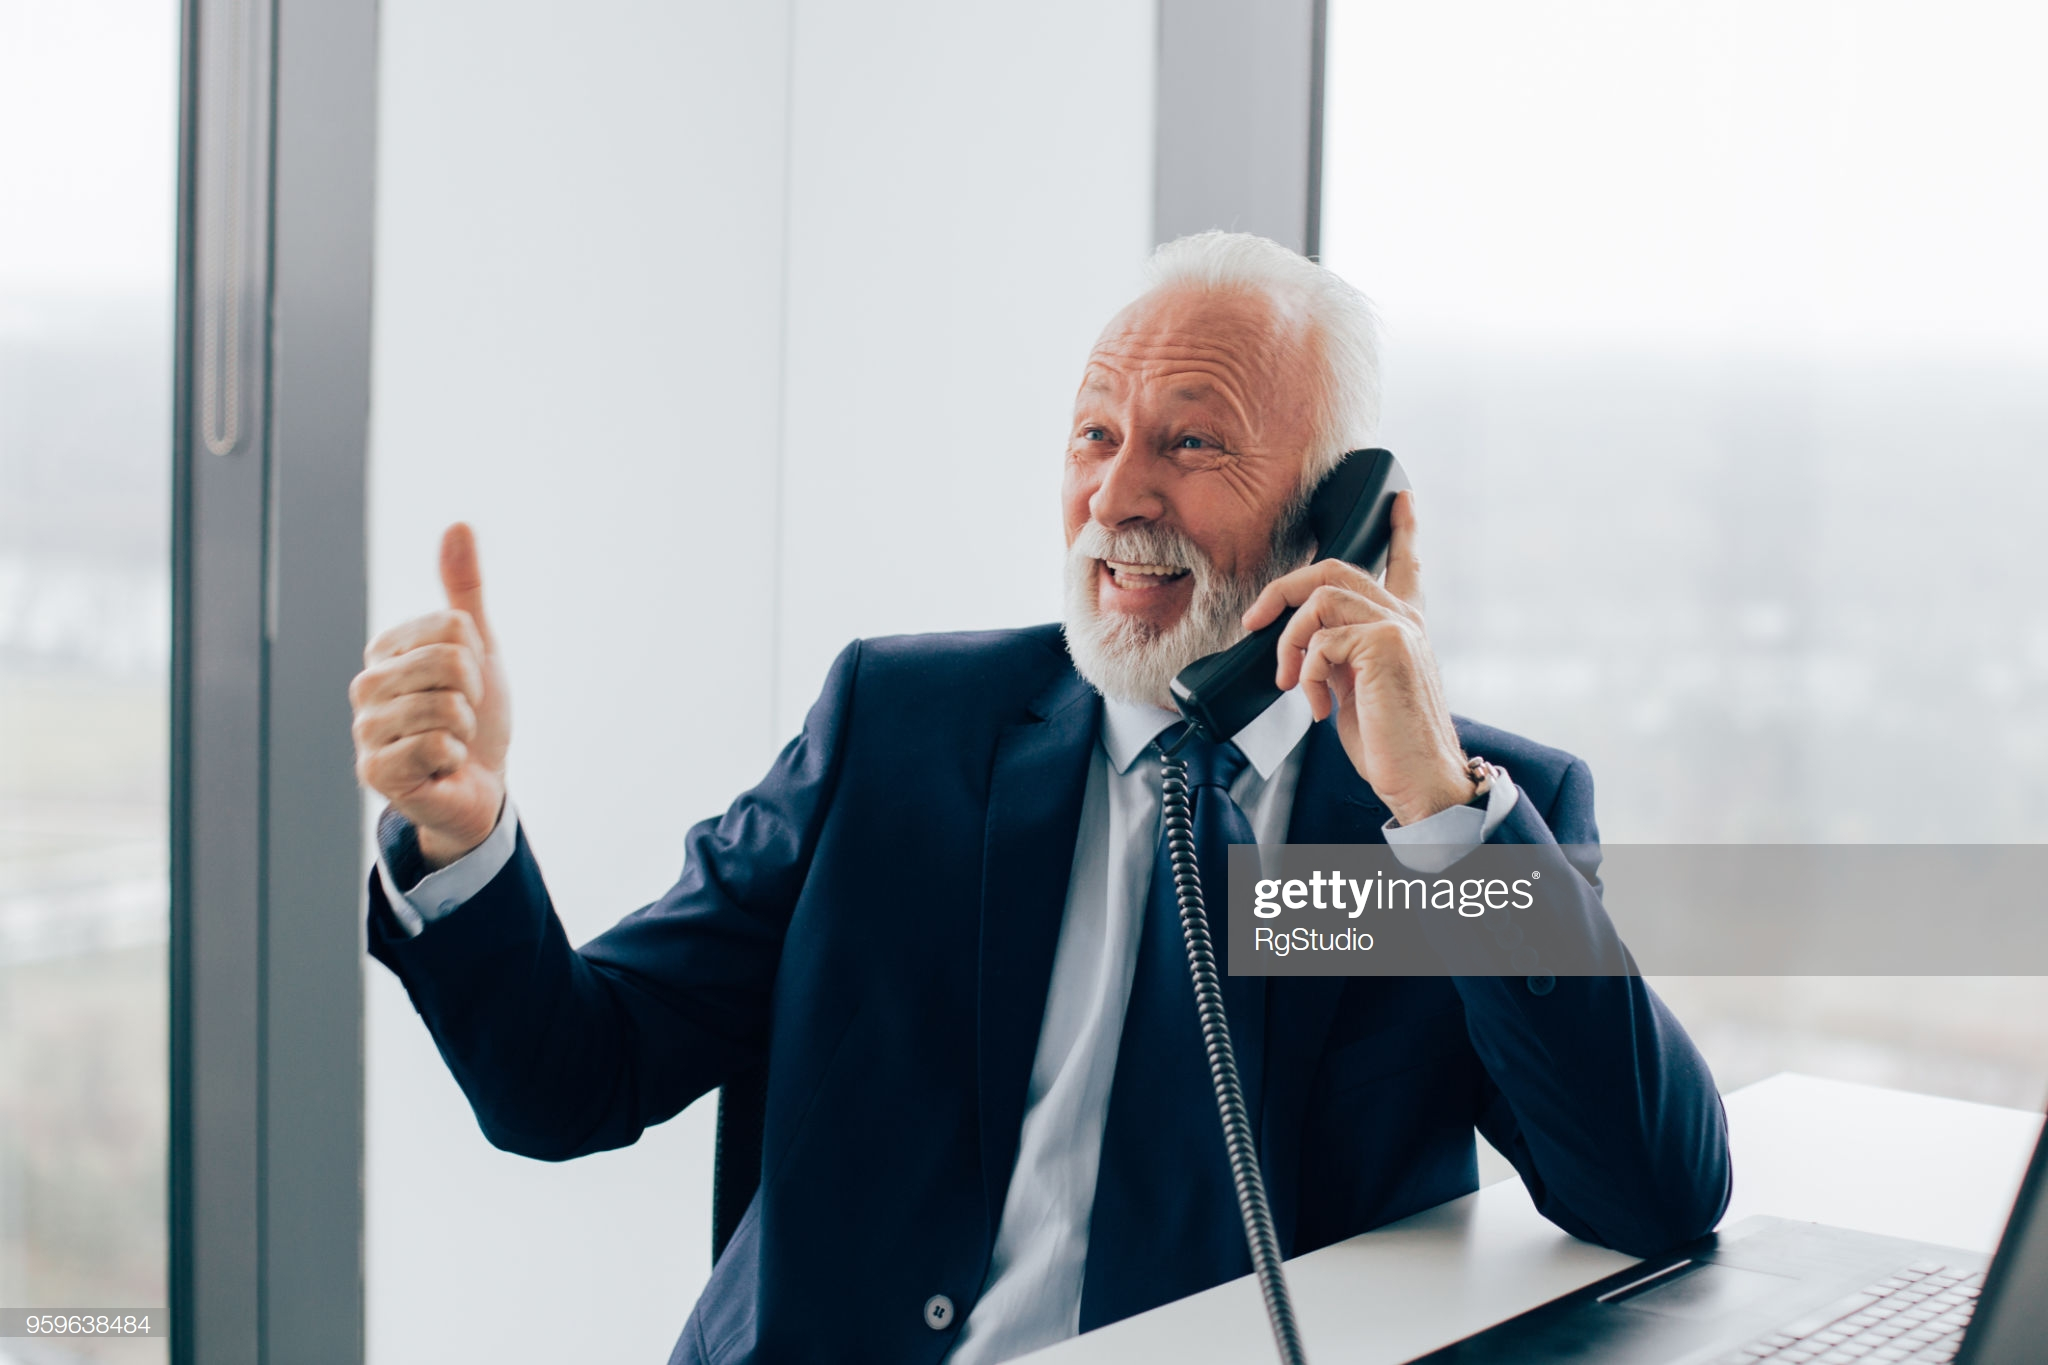thumbsup: (347, 523, 486, 778)
